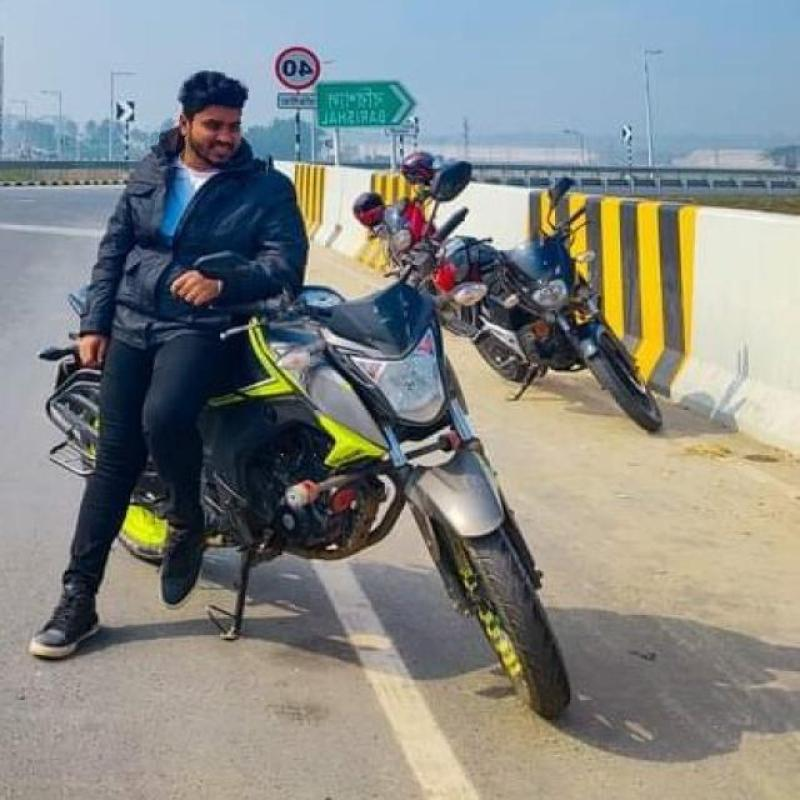nohelmet: (159, 69, 277, 175)
